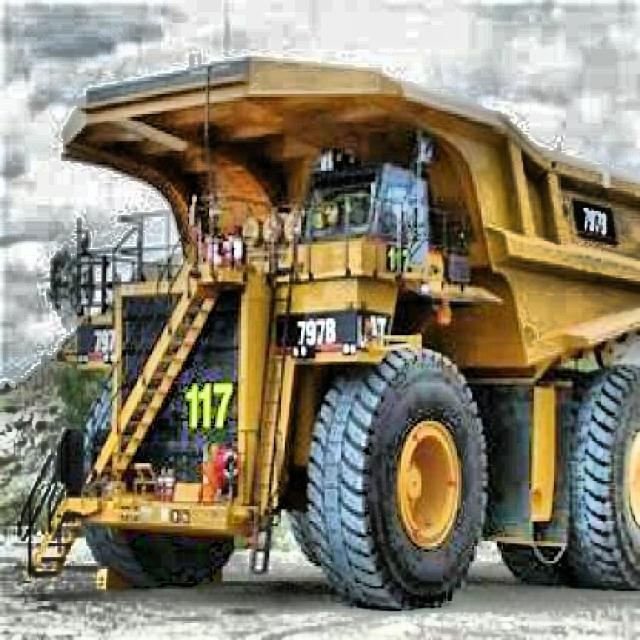dump_truck: (34, 43, 638, 621)
